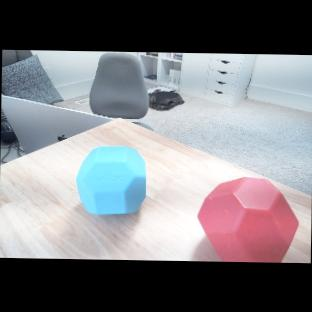V5_BLUE: (74, 145, 147, 217)
V5_RED: (196, 175, 300, 262)
